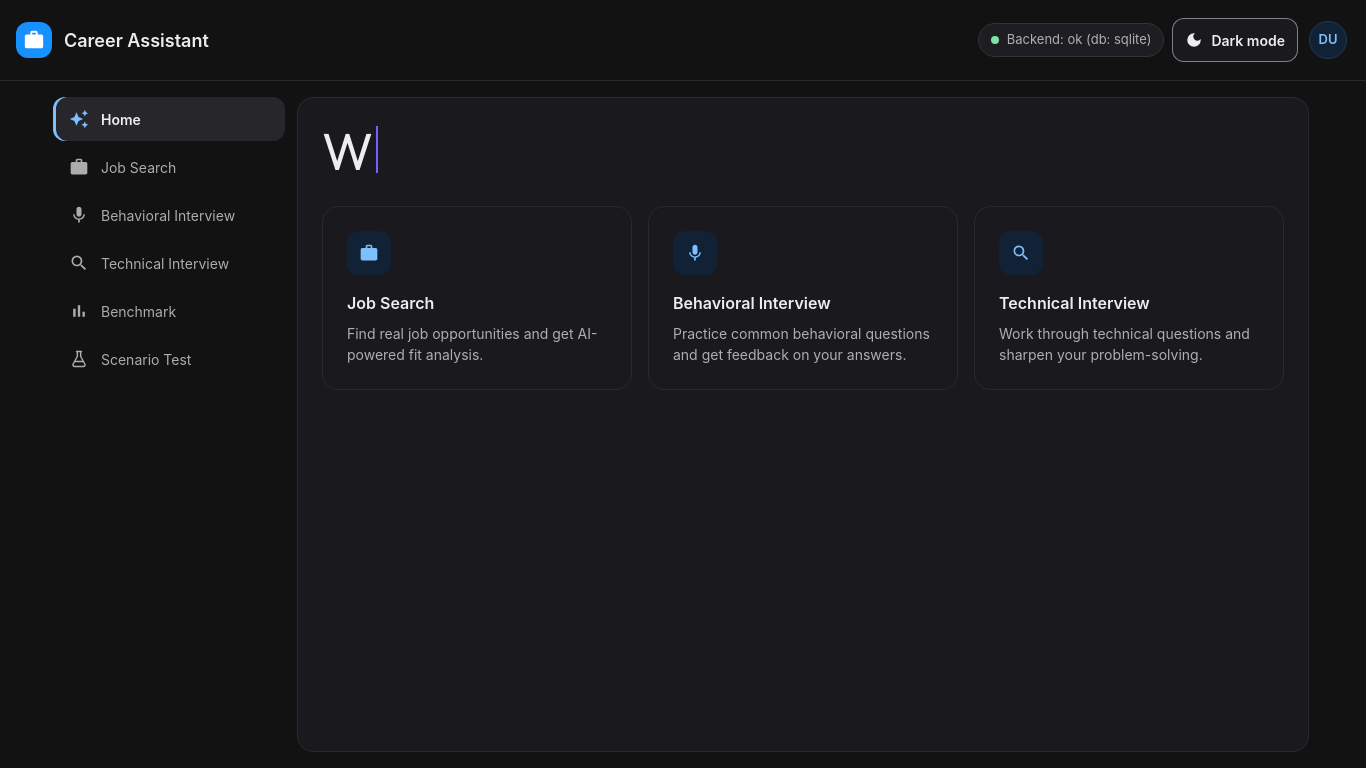
App › opens the Benchmark from the sidebar, below Technical Interview
Click the button "Benchmark".
click(169, 311)  # box [53, 289, 285, 333]
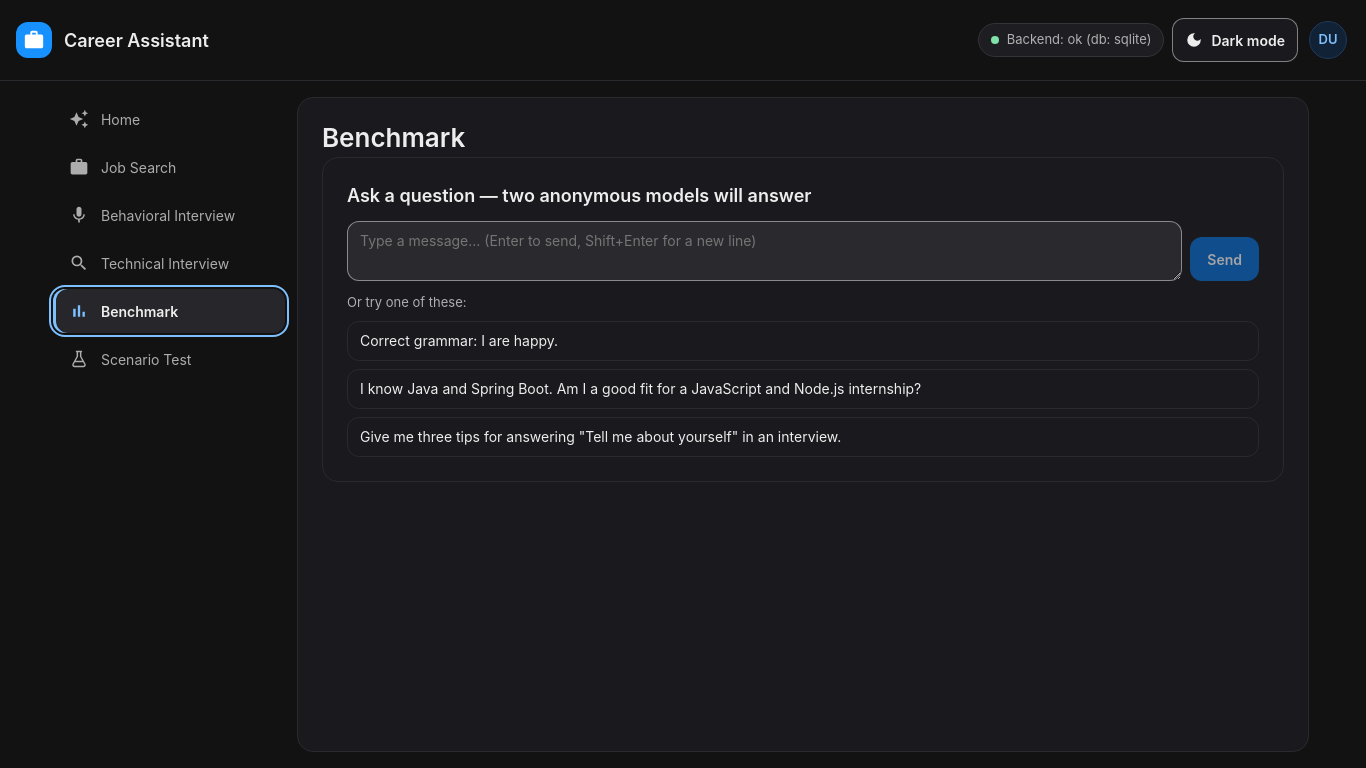
Result: the heading "Benchmark" is shown at [322, 122, 465, 153]
